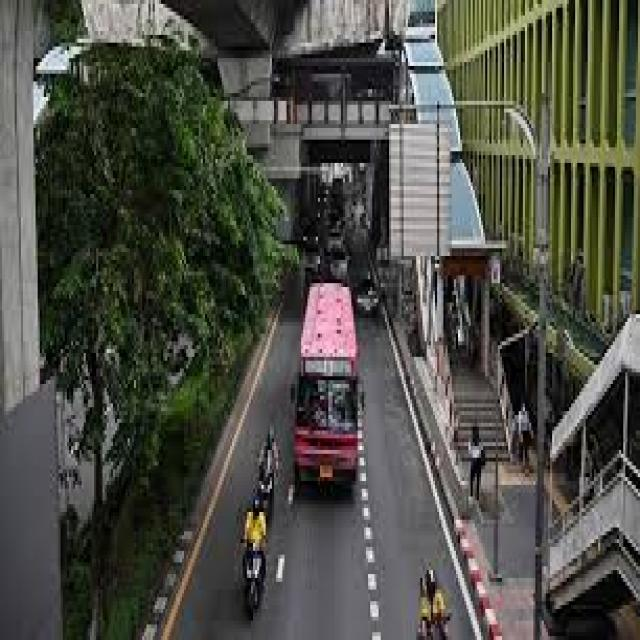bodaboda: (238, 541, 267, 628)
bus: (293, 264, 368, 514)
